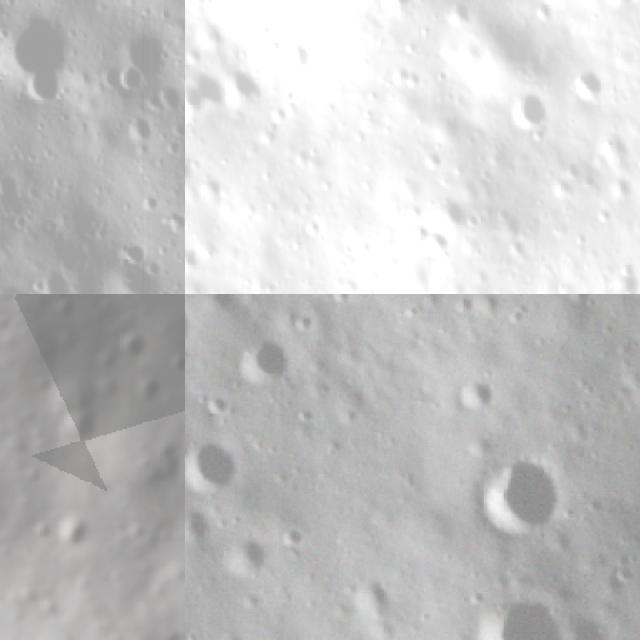crater: (467, 441, 578, 552), (459, 590, 575, 640), (4, 13, 74, 80), (227, 332, 300, 396), (185, 433, 246, 501), (211, 527, 271, 586), (442, 368, 506, 419), (272, 26, 324, 86), (504, 84, 550, 146), (558, 604, 634, 640), (567, 57, 608, 120), (185, 69, 230, 126), (185, 499, 221, 553), (112, 328, 152, 372), (31, 261, 75, 294), (133, 376, 169, 416), (55, 518, 90, 557), (111, 58, 147, 95), (185, 138, 203, 198), (373, 0, 419, 21), (185, 296, 198, 353), (167, 352, 185, 385), (605, 0, 640, 15), (0, 282, 31, 294), (0, 429, 7, 469)
